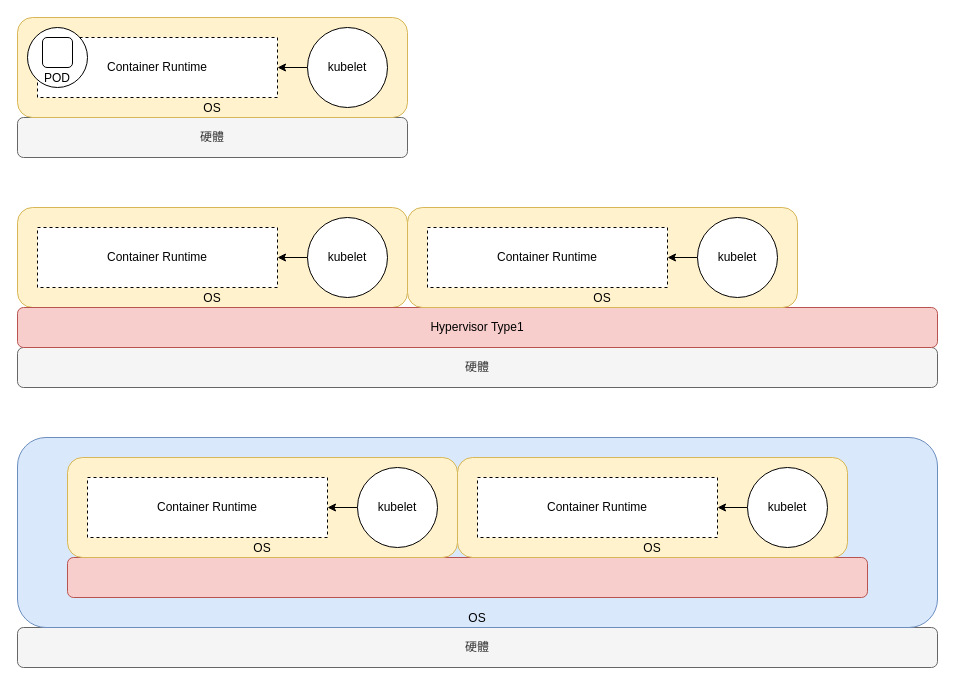
This 955x685 diagram has some shape labels left out. The box of each missing label's shape, as (x1, y1, x2, y2) in pixels:
Hypervisor Type2: (66, 556, 868, 598)
JVM: (42, 36, 72, 68)
